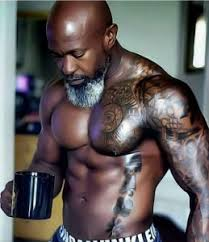black_male: (44, 12, 125, 99)
